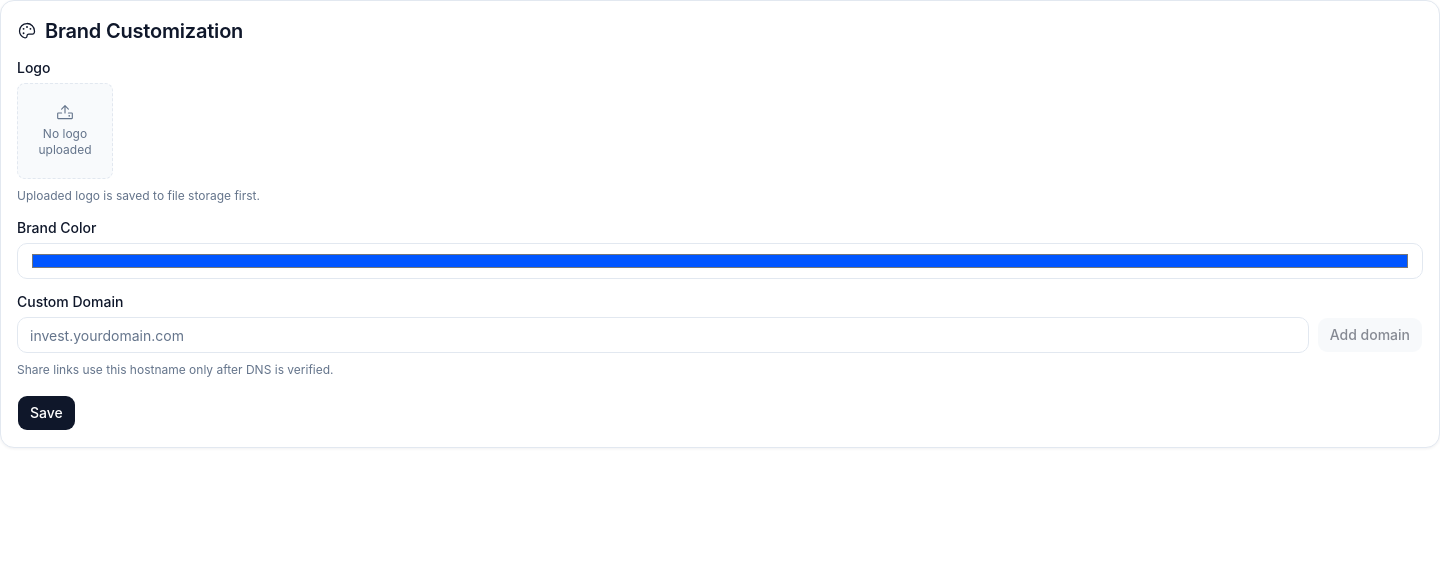
Test: SettingsBrandPage › adds a pending viewer domain without saving brand settings
This screenshot has width=1440, height=561.
Step 1. Type "view.example.com" into the field with placeholder "invest.yourdomain.com" → (663,335), box [17,317,1309,353]
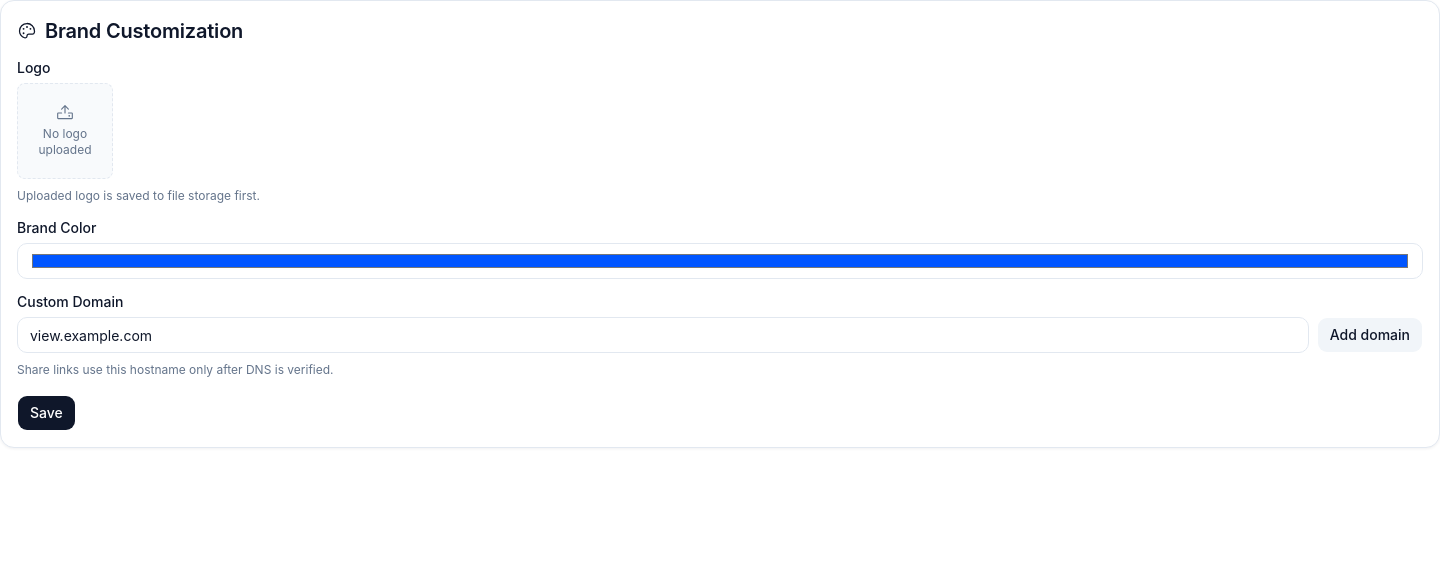
Step 2. Click the button "Add domain" → (1370,335), box [1317,317,1423,353]
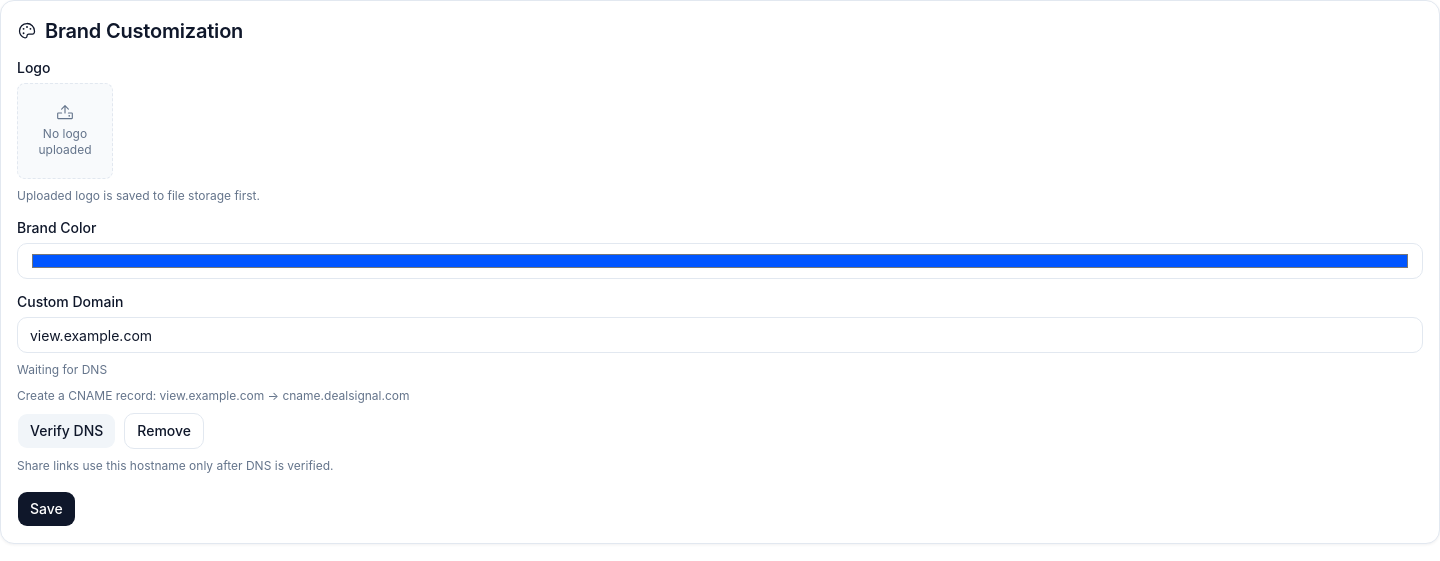
Check: the field showing "view.example.com" is shown, box [17,317,1423,353]
Check: the text "Waiting for DNS" is shown, box [17,361,107,379]
Check: the text "Create a CNAME record" is shown, box [17,388,410,403]
